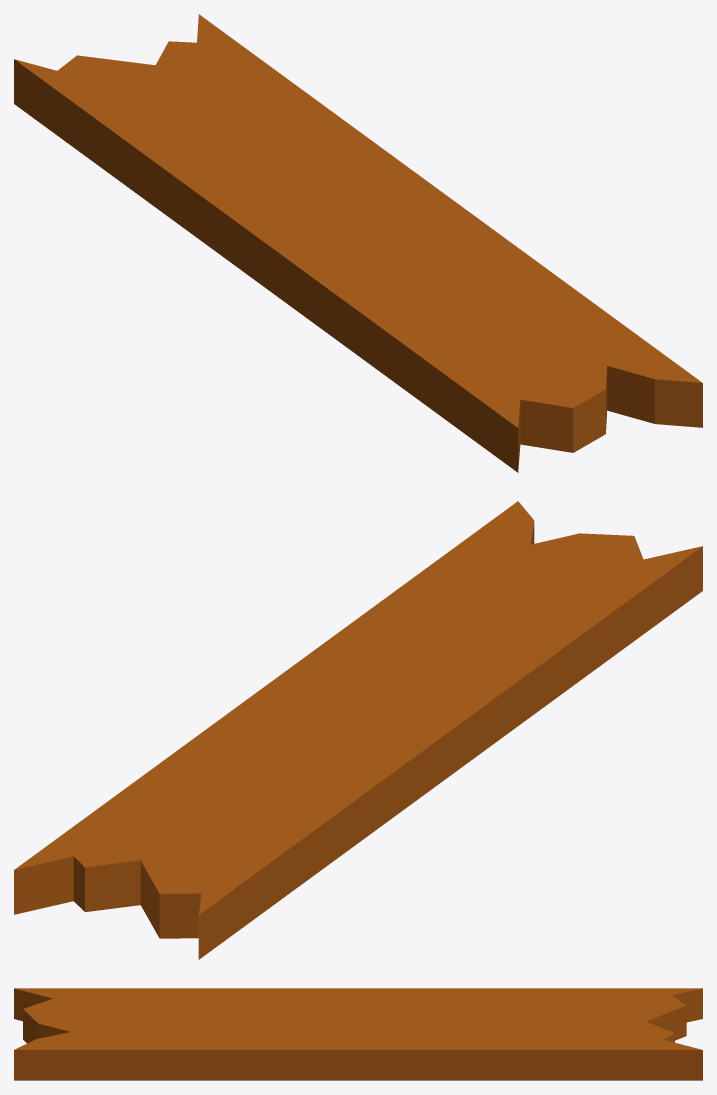
The model's file is Plank 1.fbx.
3 renders of one model, top to bottom at view 1: azimuth 30°, elevation 25°; view 2: azimuth 150°, elevation 25°; view 3: azimuth 270°, elevation 25°, orthographic. The views are drawn at different scales.
Visible parts, largest first — view 1: Box003; view 2: Box003; view 3: Box003.
Boxes of the visible parts, x1,y1,x2,y2 form: Box003: (14, 14, 702, 472); Box003: (14, 501, 702, 959); Box003: (14, 988, 702, 1080).
Bounding box in the file's own units: 16.81 × 3.89 × 79.43.
1 material, 1 textured.
